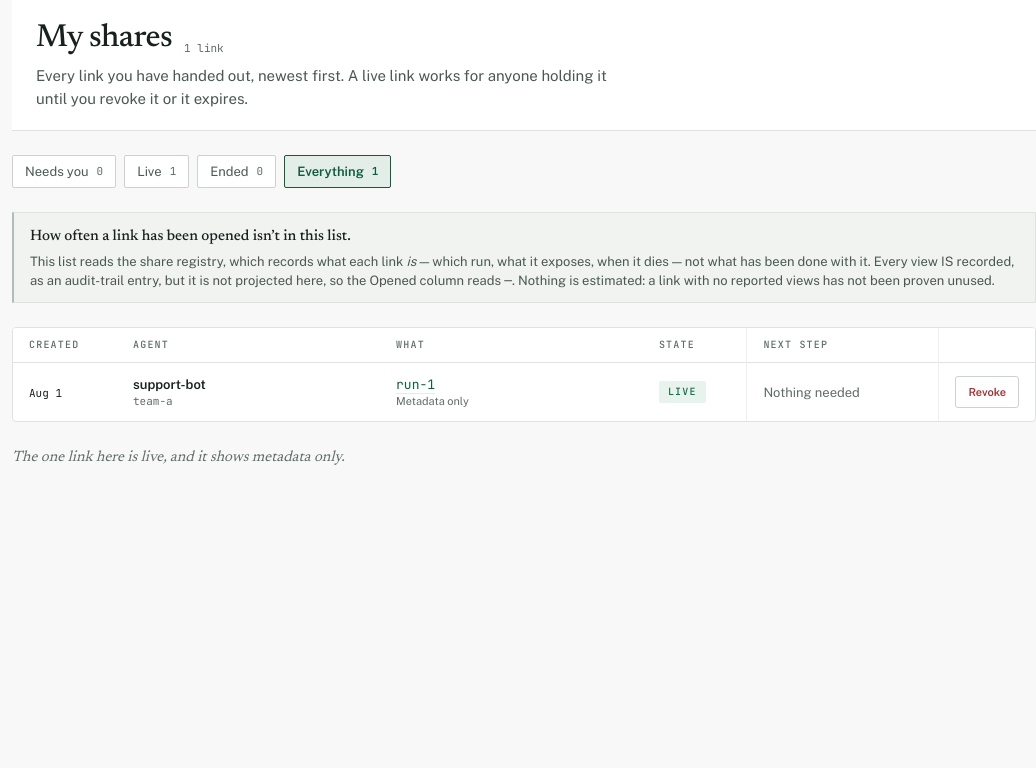
Test: MySharesPage — Revoke action (V13) › disables the Revoke button while the revoke is in flight
Click the button with test id "revoke-s1": (987, 392) [955,376,1019,408]
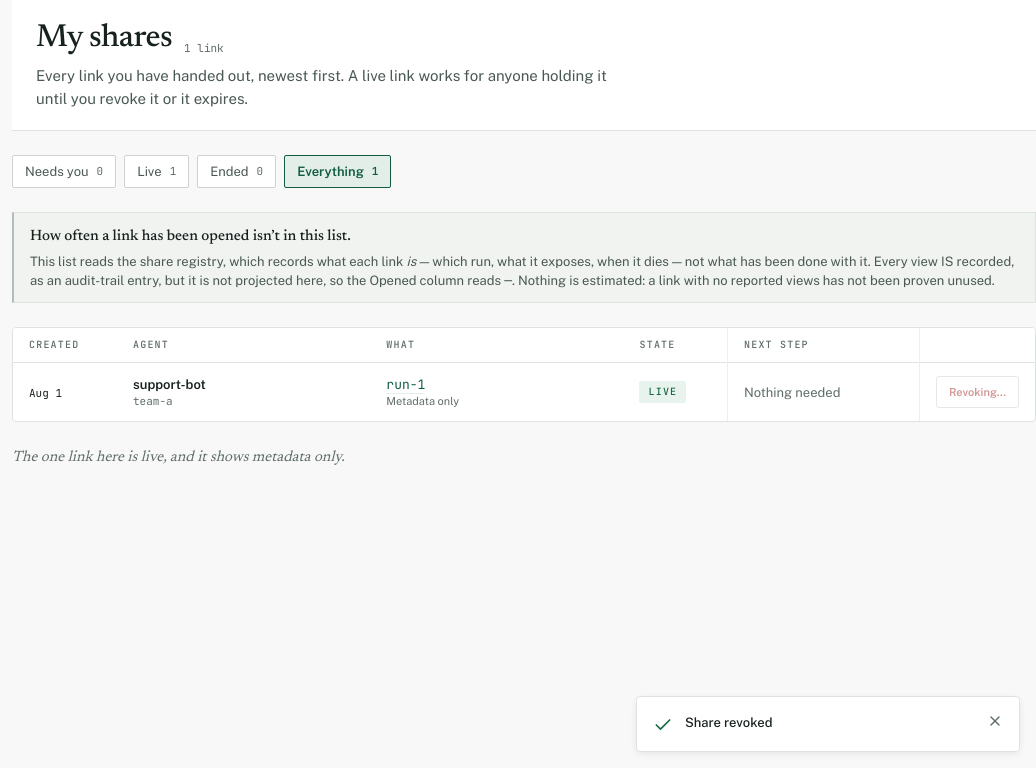
Check: the button with test id "revoke-s1" is disabled, box [936,376,1019,408]
